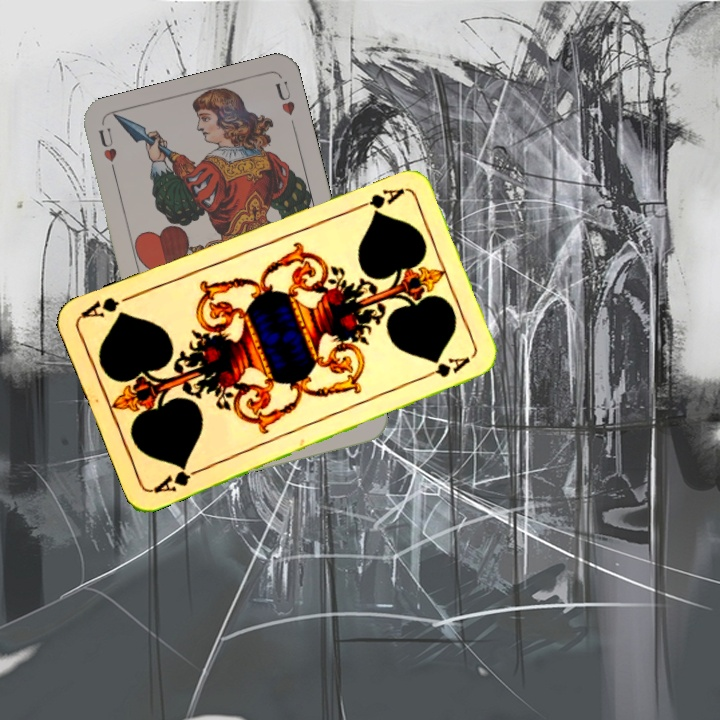GA: (149, 461, 206, 496), (349, 184, 406, 214)
HU: (94, 123, 120, 181)
